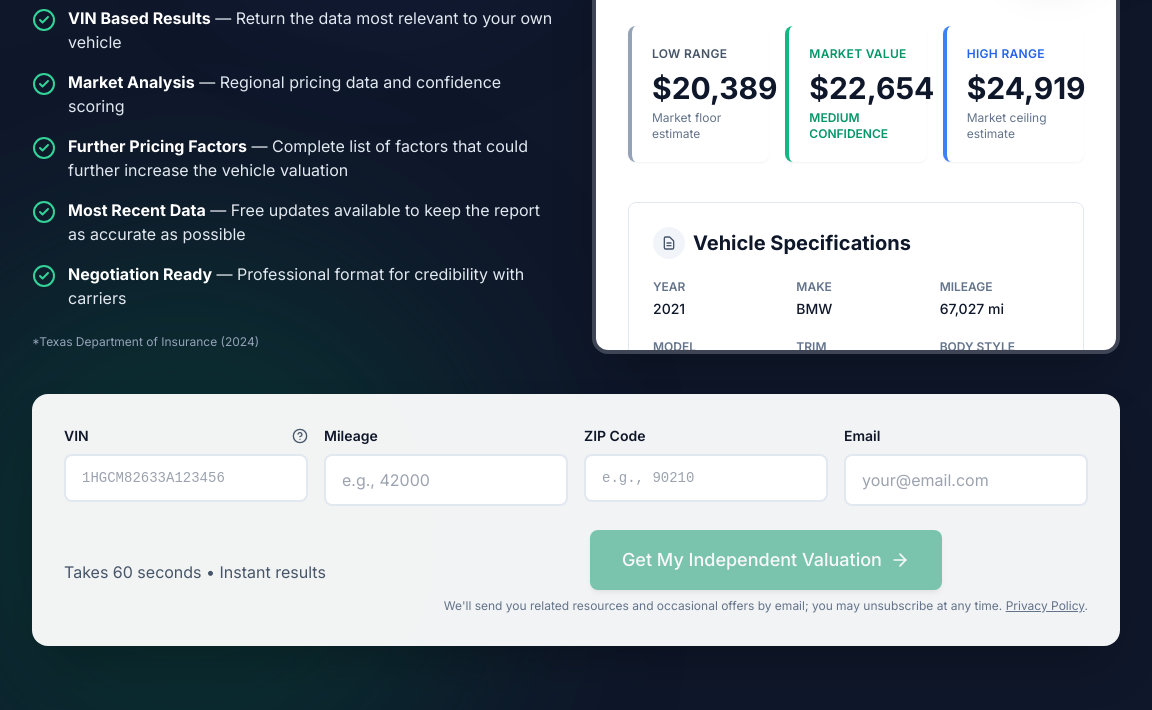
Test case: Hero › shows a submit error and does not redirect when create-anonymous fails
This screenshot has width=1152, height=710.
(page scrolled)
Type "1HGCM82633A004352" into the field labelled "VIN" at (186,478), box x1=64 y1=454 x2=308 y2=502
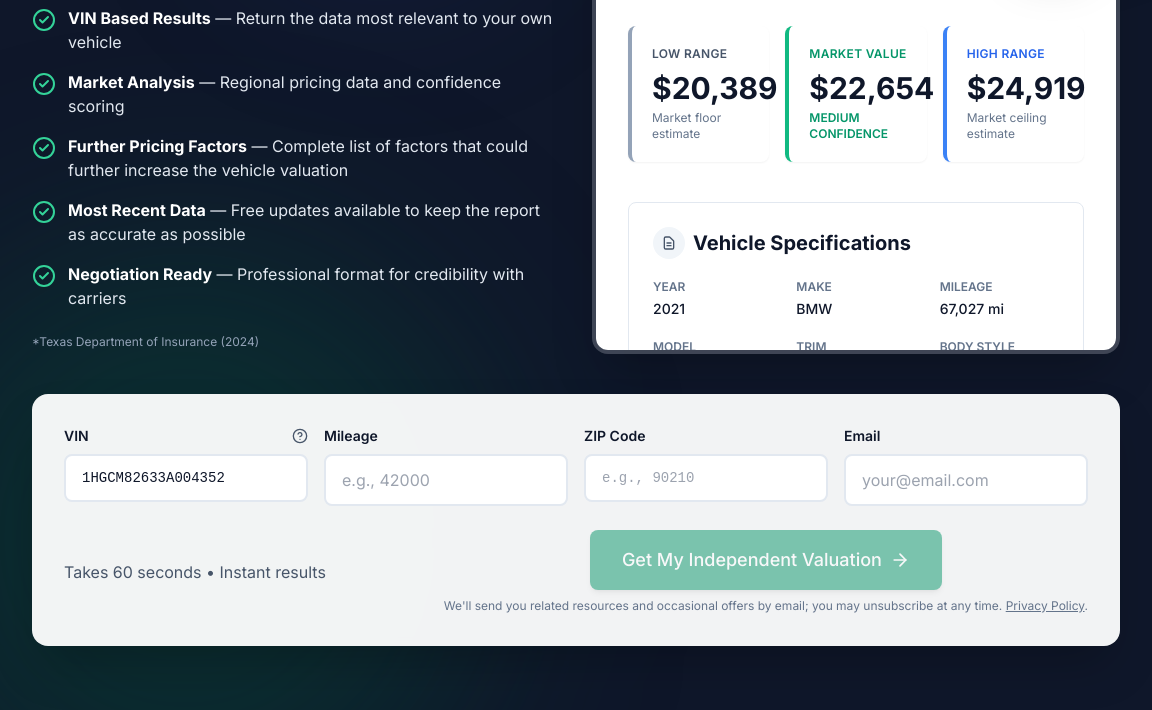
Type "50000" into the number field labelled "Mileage" at (446,480), box x1=324 y1=454 x2=568 y2=506
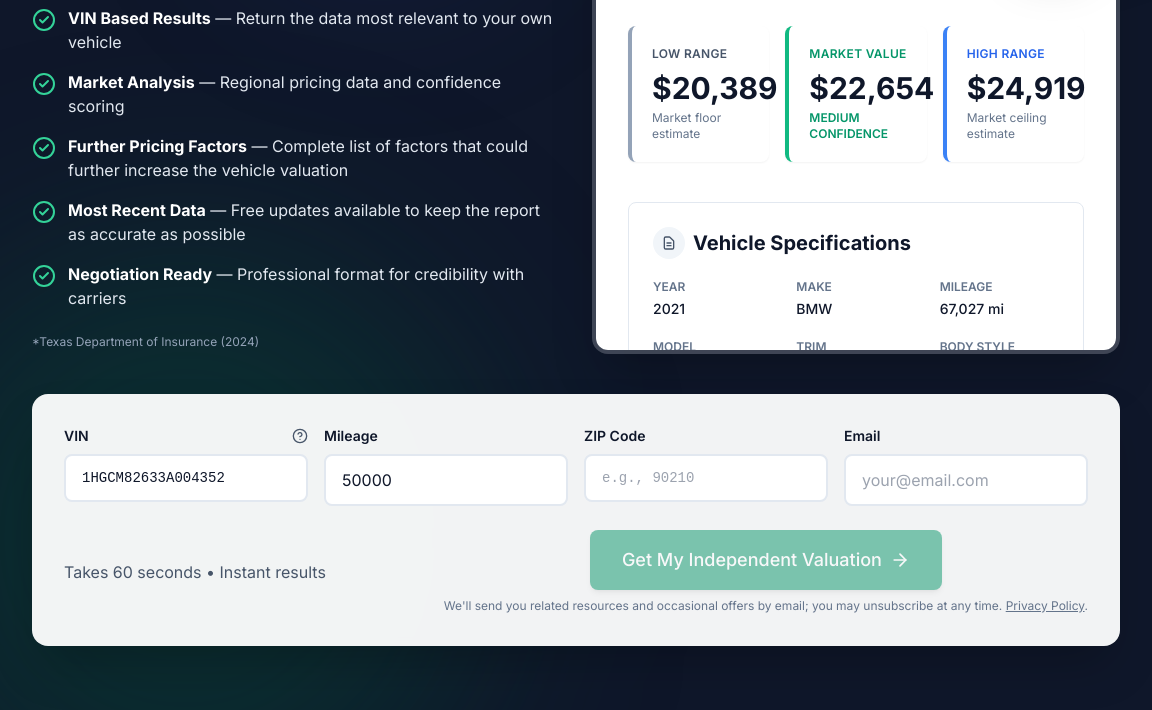
Type "90210" into the field labelled "ZIP Code" at (706,478), box x1=584 y1=454 x2=828 y2=502
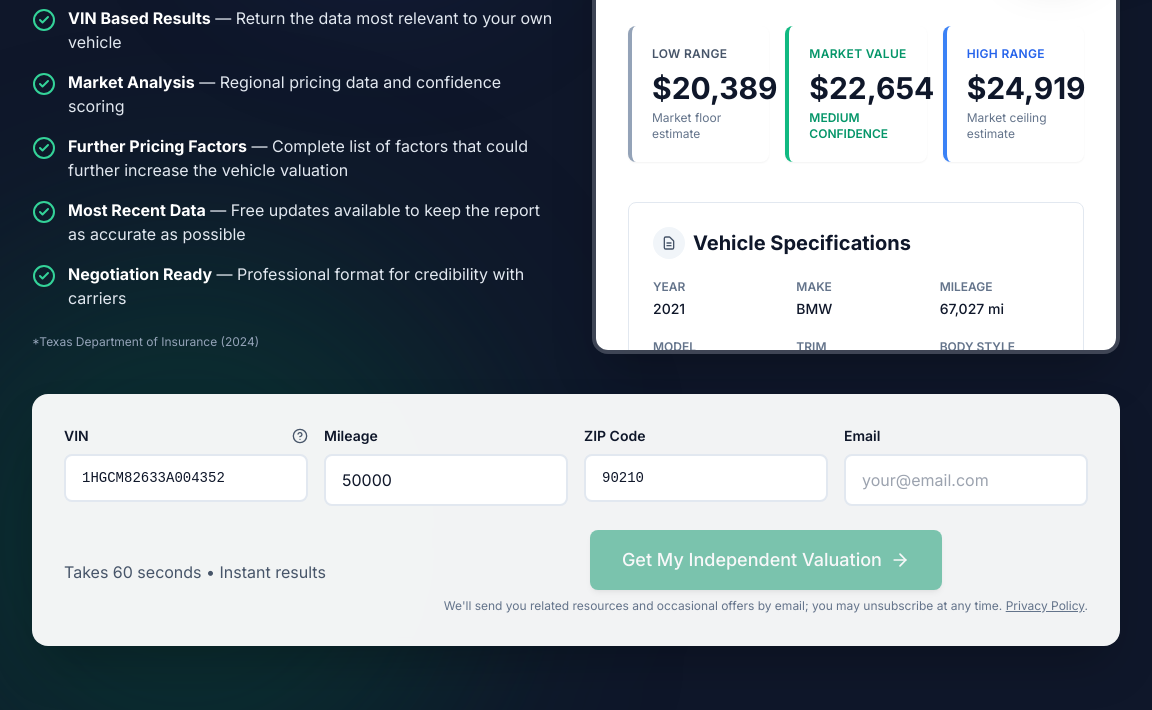
Type "test@example.com" into the field labelled "Email" at (966,480), box x1=844 y1=454 x2=1088 y2=506
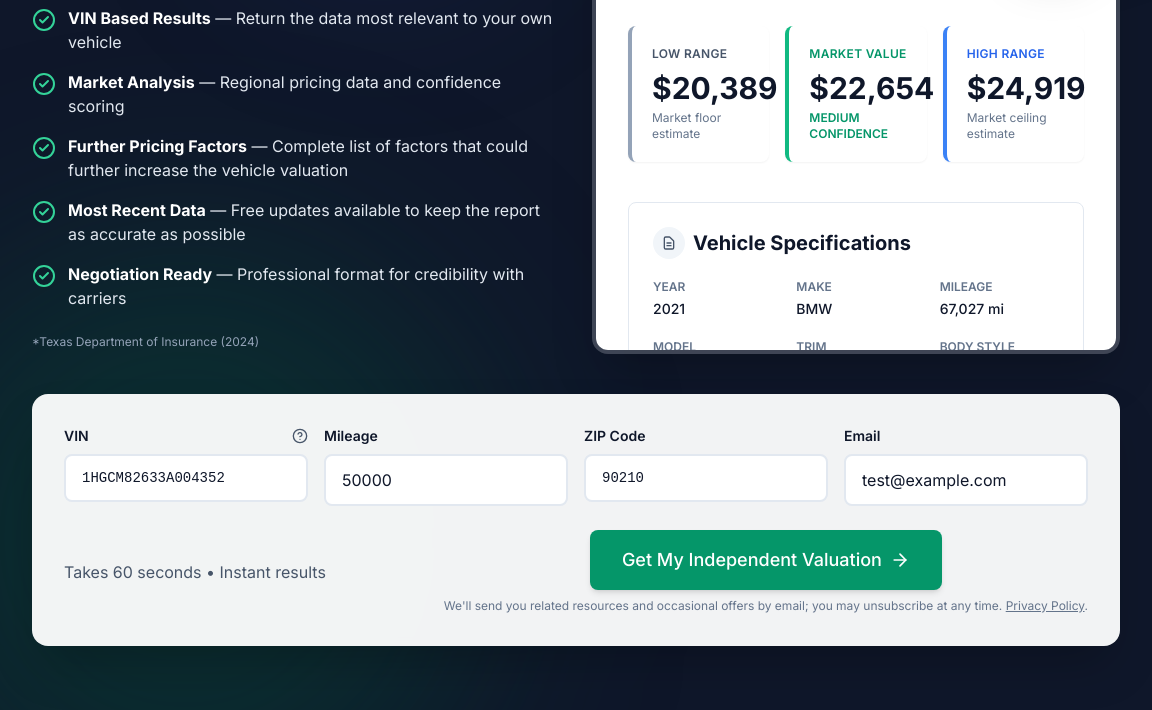
Click the button "Get My Independent Valuation" at (766,560), box x1=590 y1=530 x2=942 y2=590
(page scrolled)
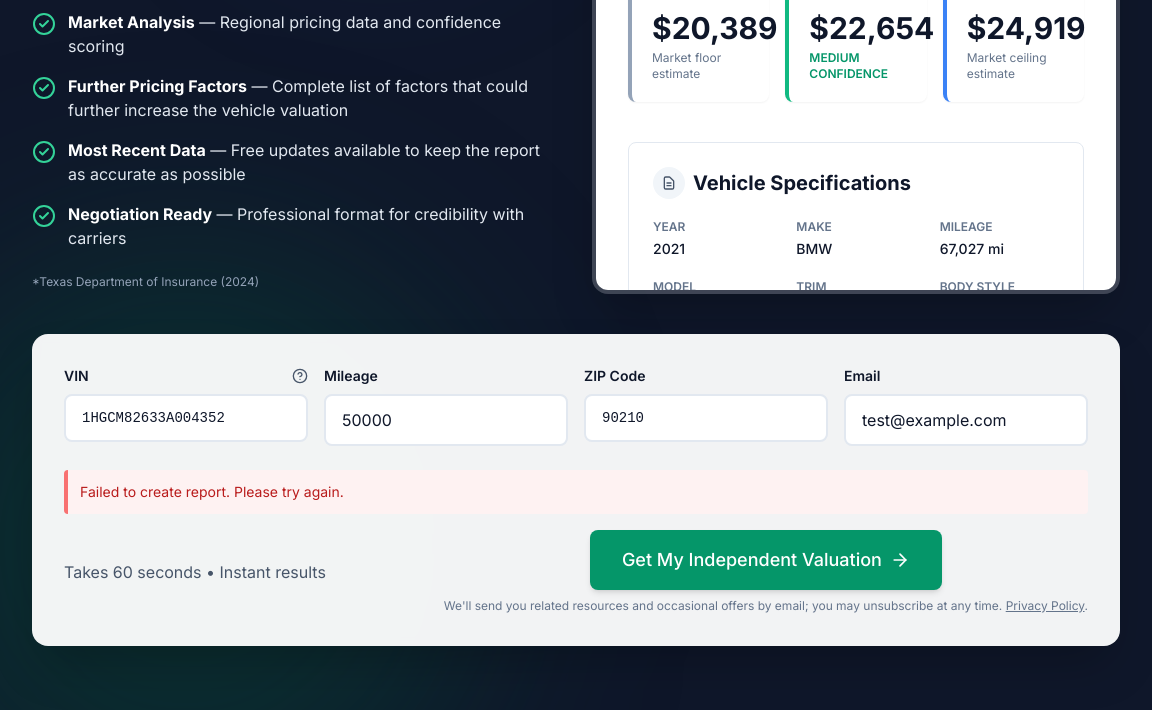
Expected: the text "Failed to create report. Please try again." is shown, x1=64 y1=470 x2=1088 y2=514
